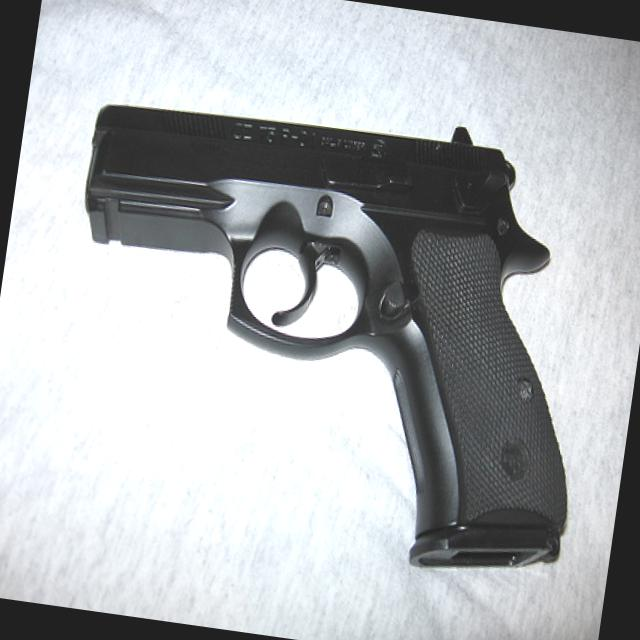handgun: (41, 73, 617, 567)
